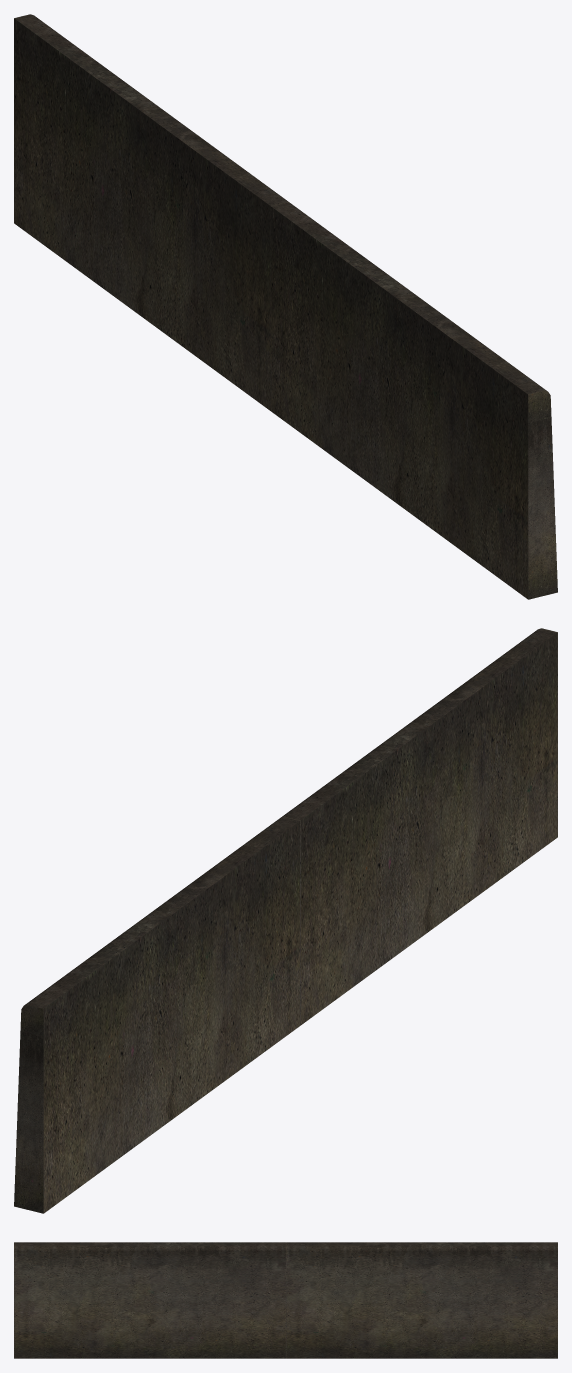
The model's file is wall_base_concrete_256.fbx.
The picture shows the model from 3 angles, top to bottom: view 1: azimuth 30°, elevation 25°; view 2: azimuth 150°, elevation 25°; view 3: azimuth 270°, elevation 25°; orthographic projection. The views are drawn at different scales.
Parts seen in each view (by area): view 1: wall_base_concrete_256; view 2: wall_base_concrete_256; view 3: wall_base_concrete_256.
Boxes of the visible parts, x1,y1,x2,y2 form: wall_base_concrete_256: [14, 14, 557, 599]; wall_base_concrete_256: [14, 628, 557, 1213]; wall_base_concrete_256: [14, 1242, 557, 1358].
Bounding box in the file's own units: 0.1 × 0.66 × 3.
